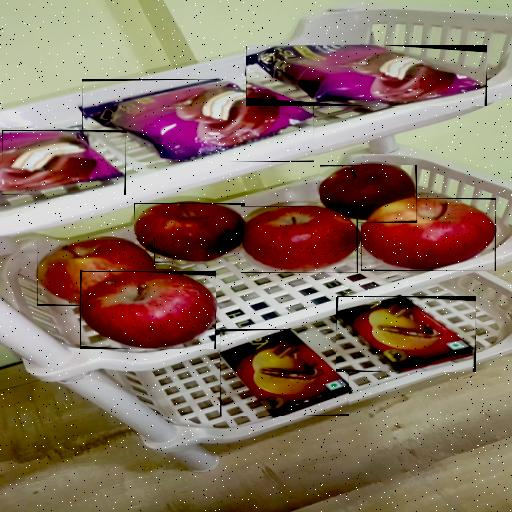Apple: (80, 271, 216, 349), (361, 198, 496, 271), (37, 238, 155, 306), (241, 206, 358, 273), (134, 204, 245, 264), (320, 165, 417, 223)
Choco Fills: (220, 329, 349, 416), (336, 296, 476, 372)
Choco Pie: (82, 79, 314, 162), (246, 46, 487, 108), (2, 130, 126, 195)
